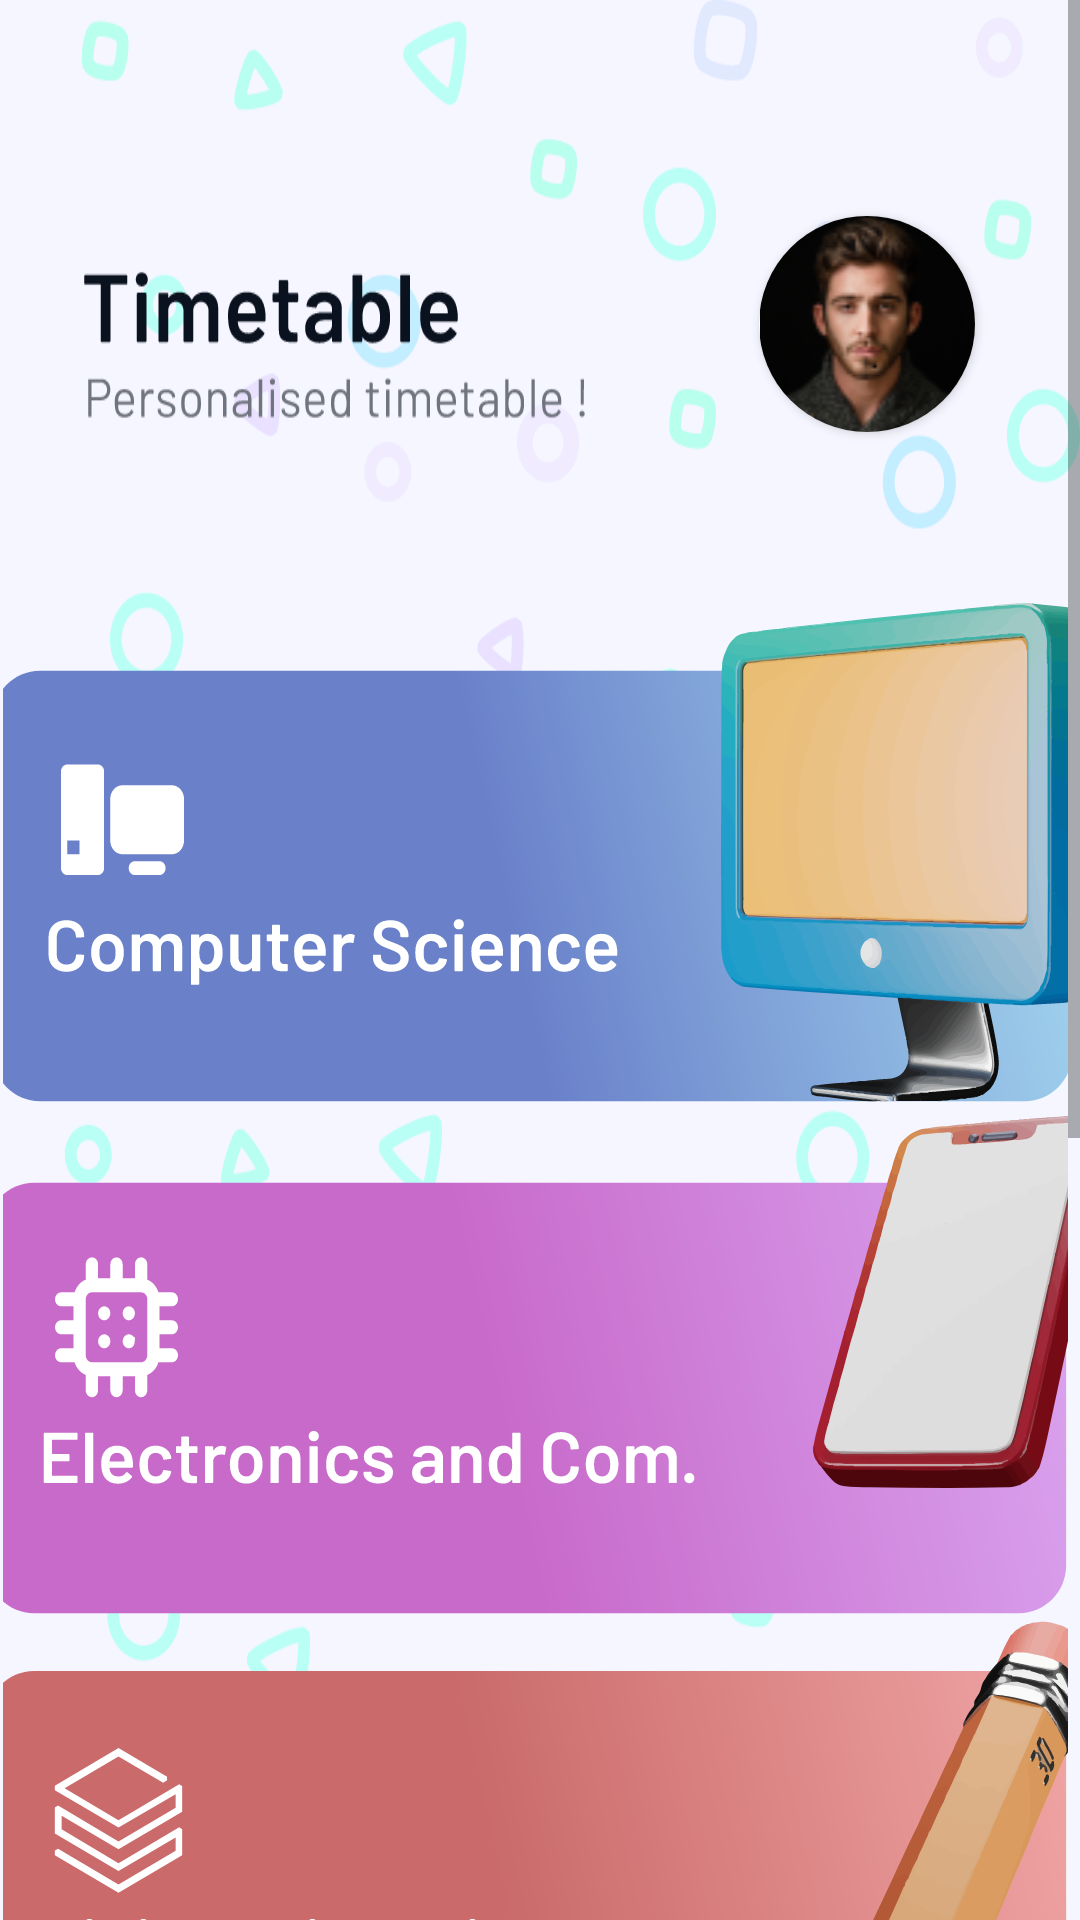

Point at icon controls on the screen. Image size 1080 × 1920, points as point (x, y).
men profile: point (867, 324)
